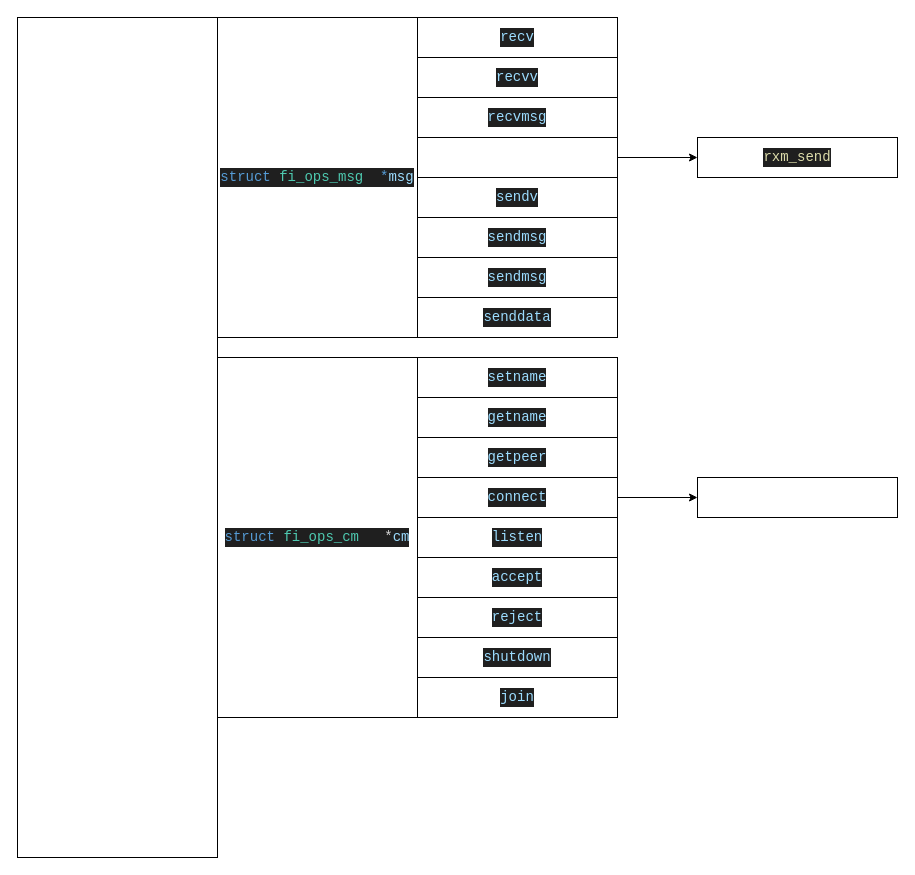
The diagram is 915 pixels wide and 875 high, and some of its shapes have lost their labels. Here are the shapes that lost their labels. From the top down, the centre of each, then its label:
At (517,157): "send".
At (117,437): "struct fid_ep".
At (797,497): "vrb_msg_ep_connect".
